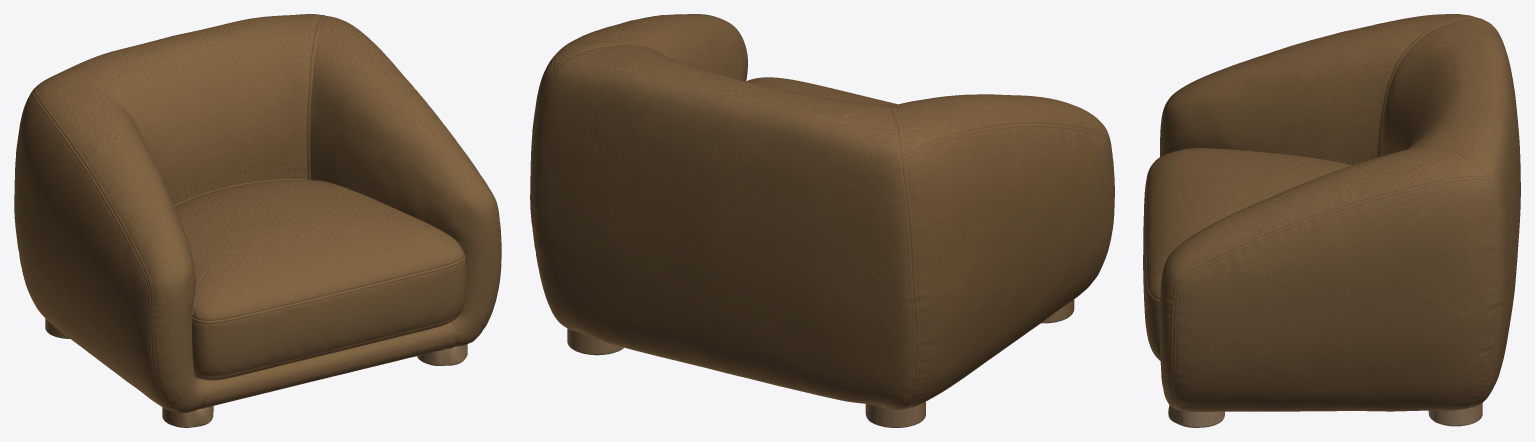
File: comfinia-kaniel-premium-boucle-fabric-sofa-for-living-room-a.glb
3 views of the same model, side by side, from view 1: azimuth 30°, elevation 25°; view 2: azimuth 150°, elevation 25°; view 3: azimuth 270°, elevation 25° (orthographic). The views are drawn at different scales.
Size of the model in its own units: 1.9 by 1.26 by 1.6.
1 material, 1 textured.
